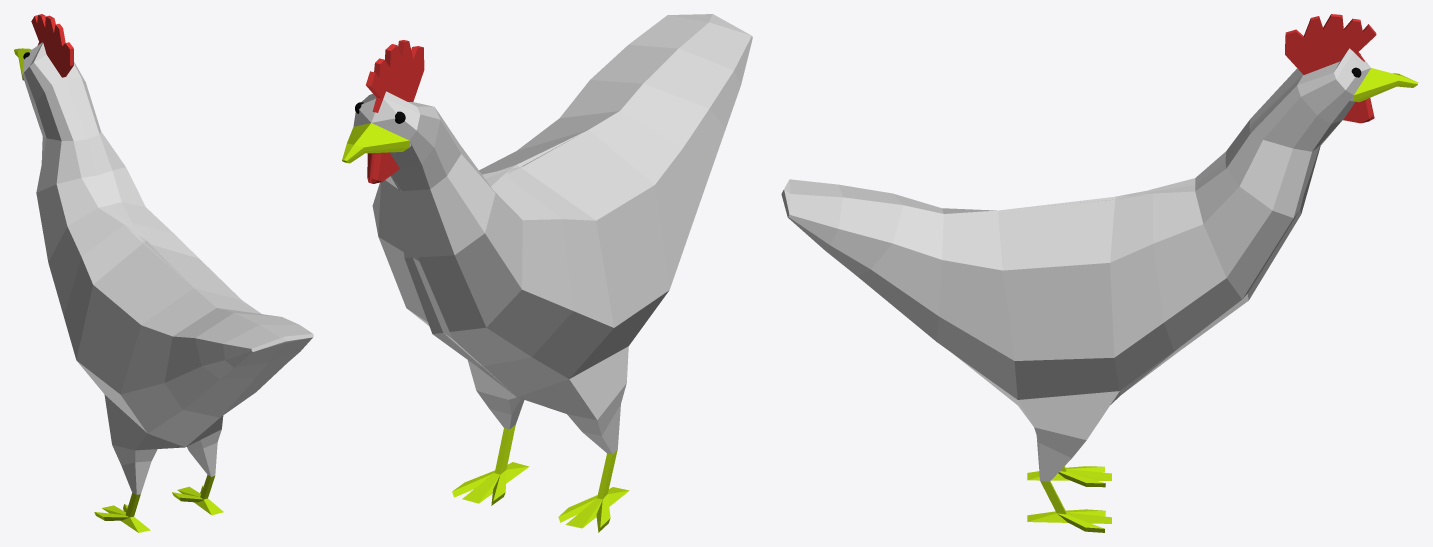
Rendered from Chicken.glb.
The picture shows the model from 3 angles, left to right: view 1: azimuth 30°, elevation 25°; view 2: azimuth 150°, elevation 25°; view 3: azimuth 270°, elevation 25°; orthographic projection. The views are drawn at different scales.
Visible parts, largest first — view 1: Chicken, Chicken.004, Chicken.001; view 2: Chicken, Chicken.004, Chicken.001, Chicken.003, Chicken.002; view 3: Chicken, Chicken.001, Chicken.004, Chicken.003.
Part boxes in pixels (x1,y1,x2,y2): Chicken: (22,42,313,494); Chicken.004: (94,475,223,532); Chicken.001: (31,14,73,77); Chicken: (353,14,752,454); Chicken.004: (452,425,629,532); Chicken.001: (366,40,424,112); Chicken.003: (342,123,409,163); Chicken.002: (367,152,399,183); Chicken: (781,48,1370,481); Chicken.001: (1285,14,1376,74); Chicken.004: (1027,466,1111,532); Chicken.003: (1353,68,1418,102).
Bounding box in the file's own units: 0.308 × 0.8937 × 1.06.
